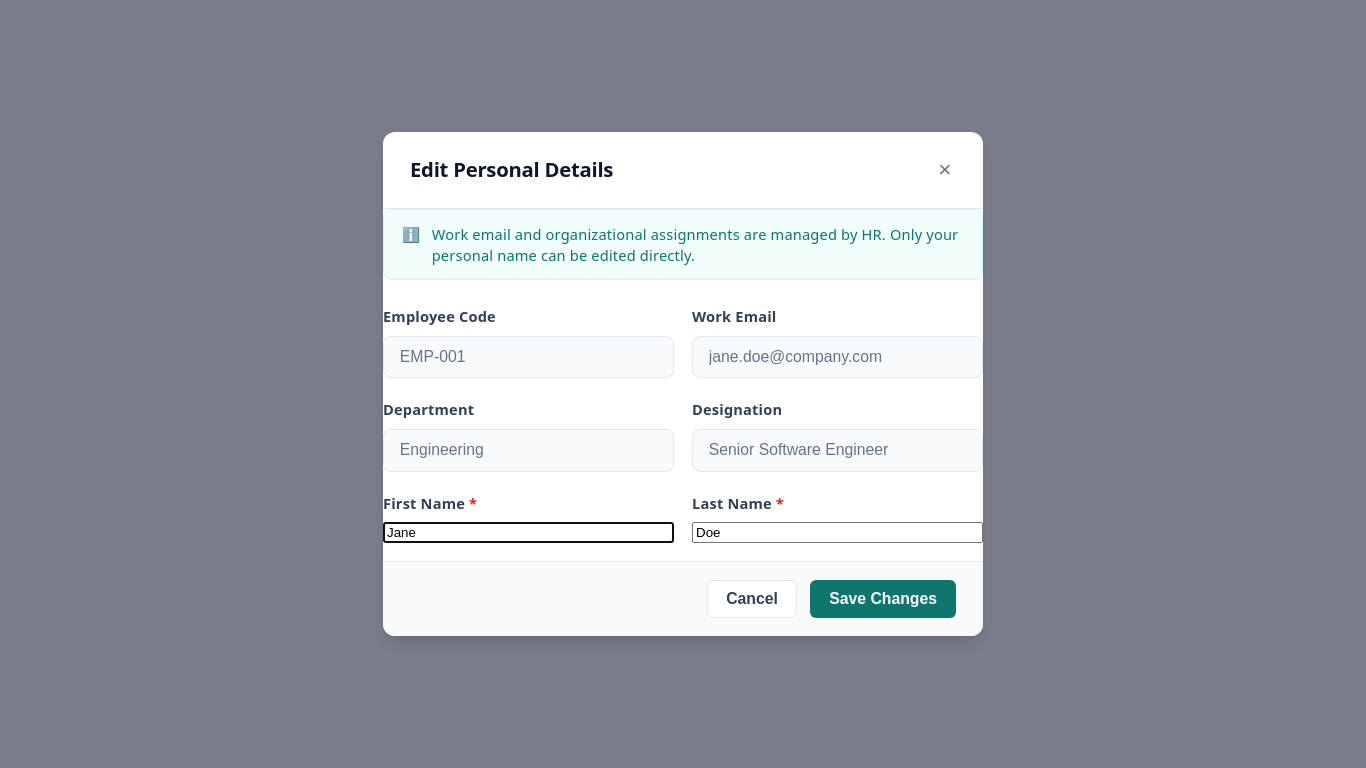
Test case: ProfileEditModal component › validates required first and last name fields before submitting
This screenshot has width=1366, height=768.
Clear the field labelled "First Name *" at x=528, y=533, box [383,522,674,544]
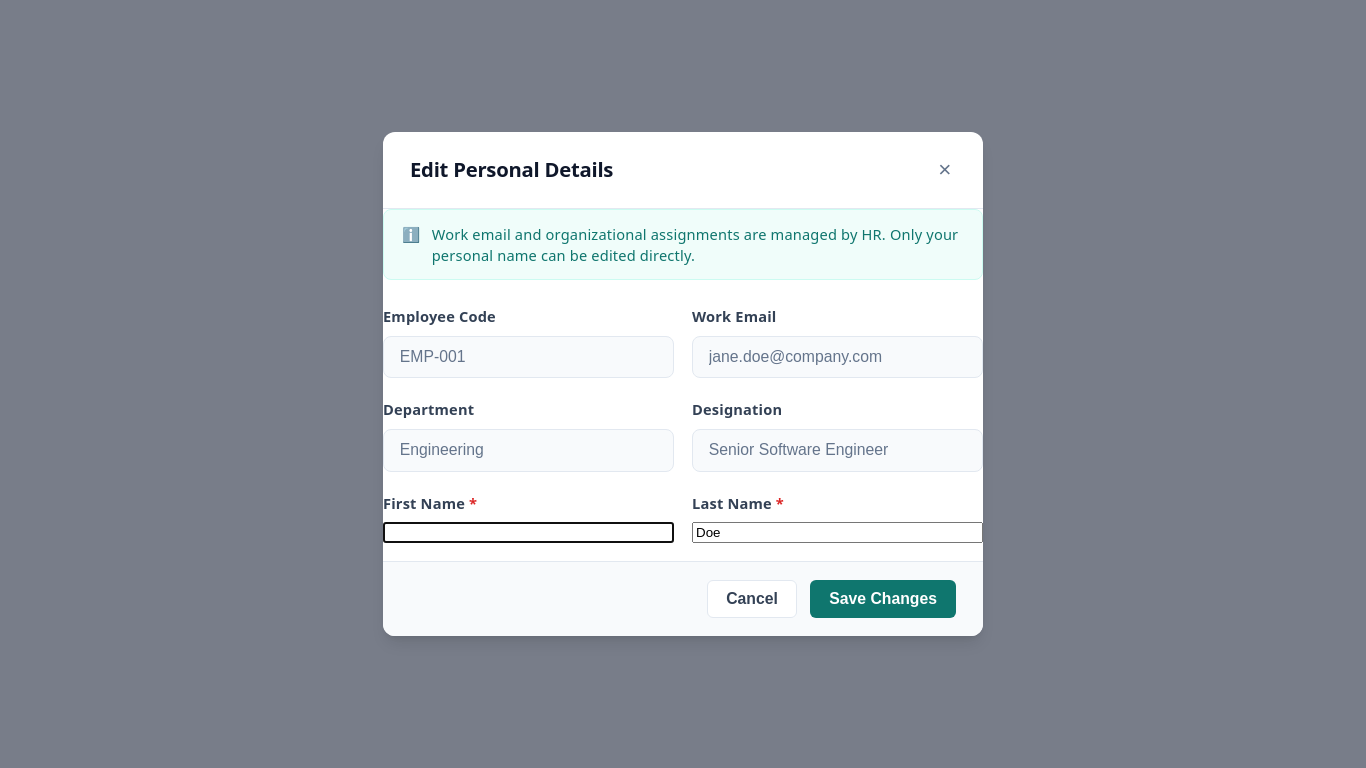
Click the button "Save Changes" at x=883, y=600, box [810,580,956,618]
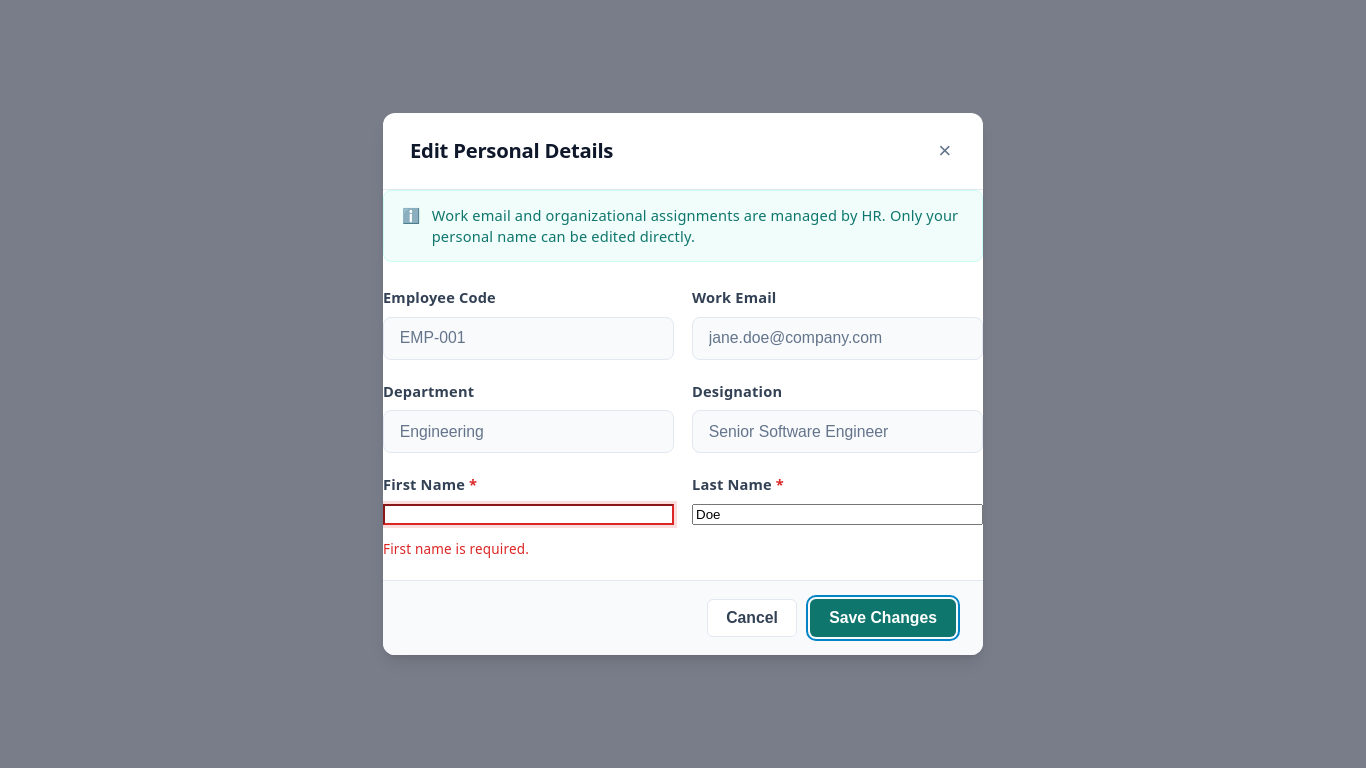
Now the text "First name is required." is shown, box [383,540,529,558]
Type "Jane" into the field labelled "First Name *" at x=528, y=514, box [383,504,674,525]
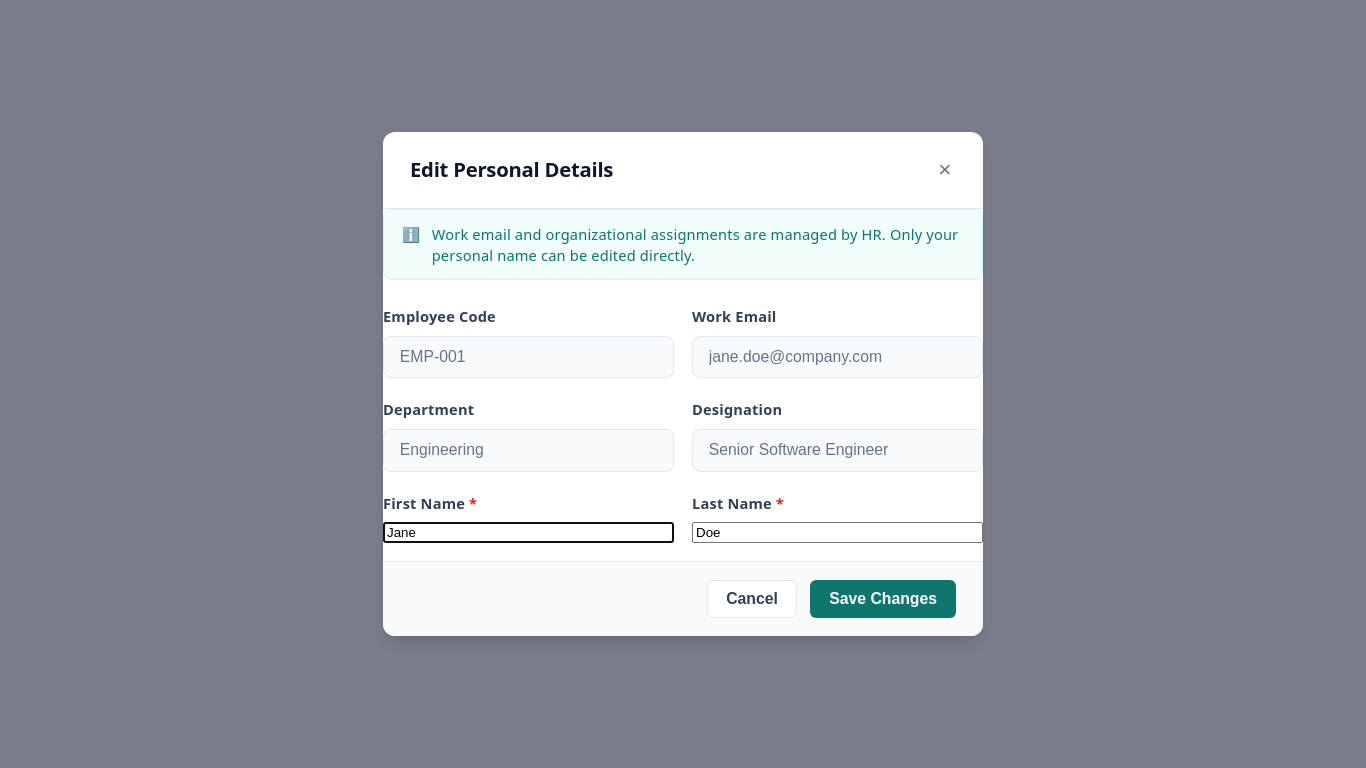
Clear the field labelled "Last Name *" at x=838, y=533, box [692,522,983,544]
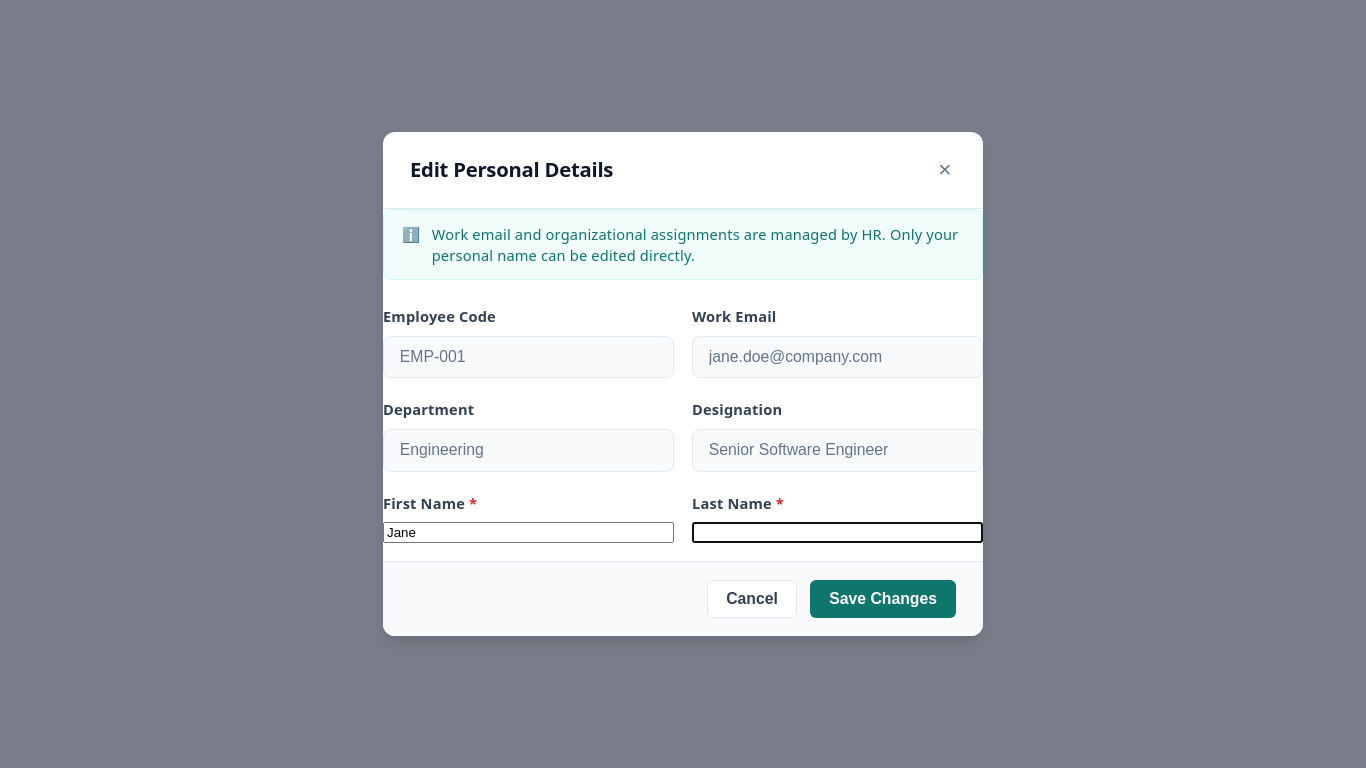
Click the button "Save Changes" at x=883, y=600, box [810,580,956,618]
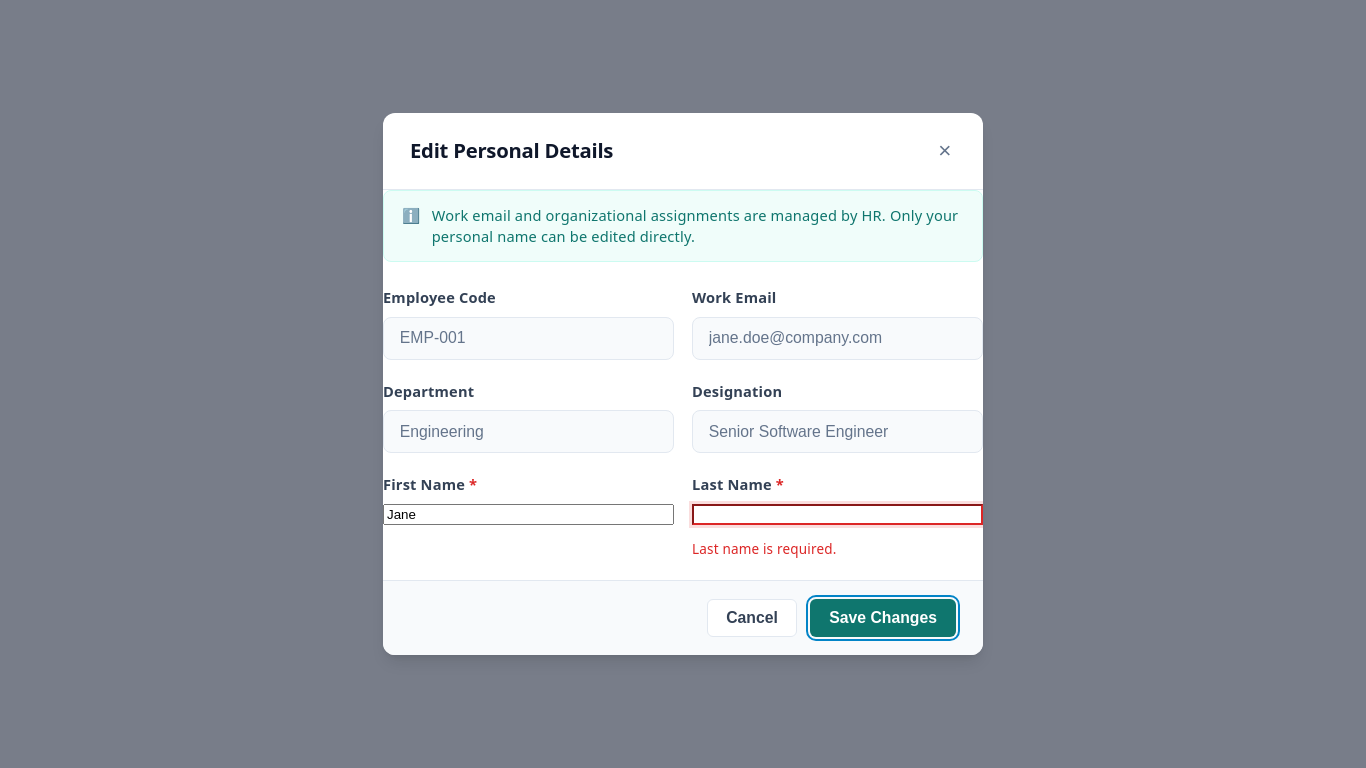
Now the text "Last name is required." is shown, box [692,540,836,558]
